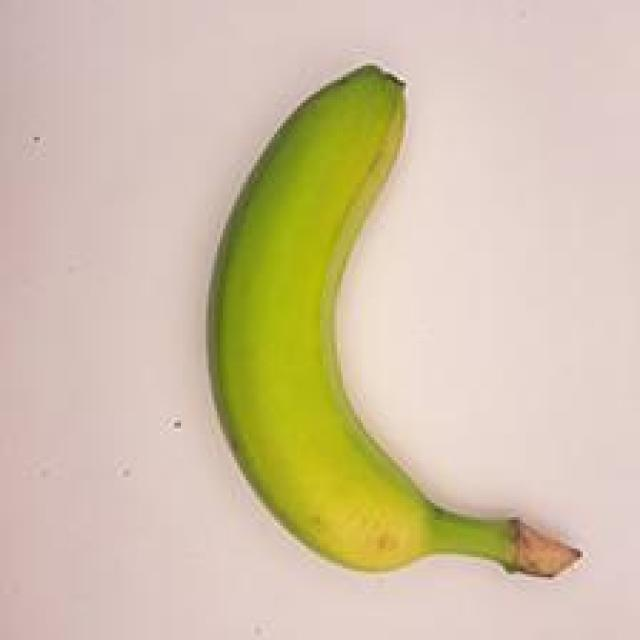Unripe: (202, 42, 590, 604)
